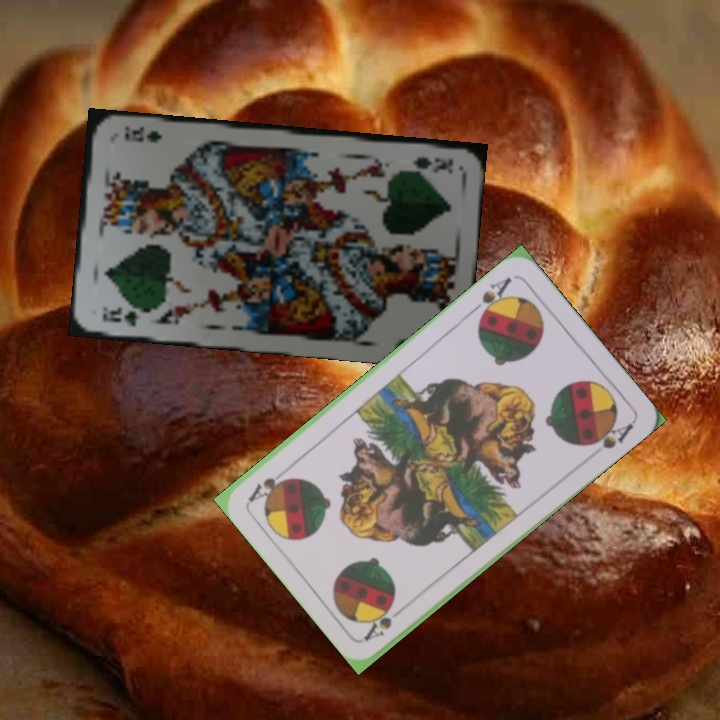GK: (98, 303, 143, 329), (409, 152, 456, 175)
SA: (467, 273, 515, 323), (359, 601, 410, 643)
